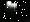person: (7, 3, 13, 16), (12, 5, 17, 15)
